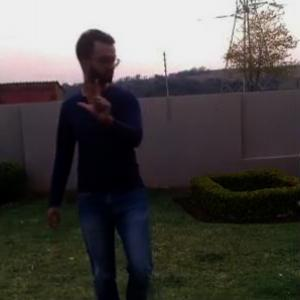land_hand: (76, 73, 113, 125)
